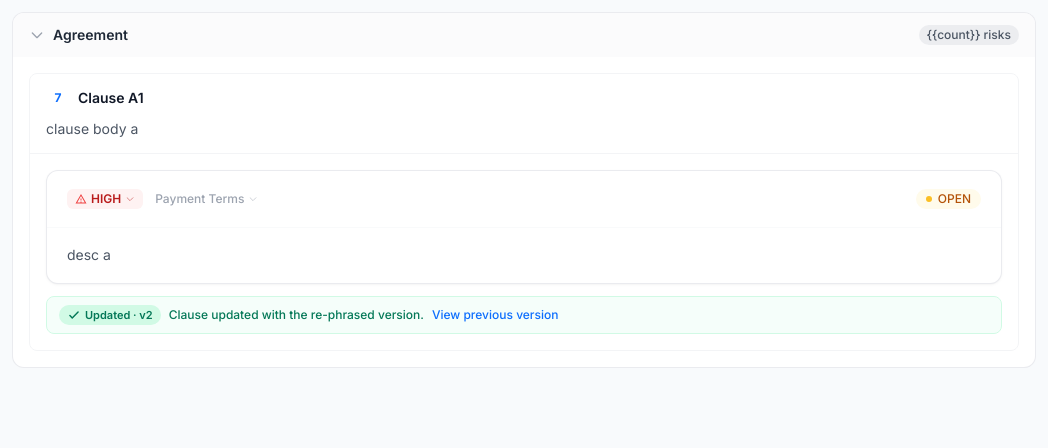
Test: RiskAnalysisTab — recommendation states › TASK 4 — merged state shows "Updated · v{n}" badge + View previous version
The image size is (1048, 448).
Expected: the text "Updated · v2" is shown, x1=59 y1=304 x2=161 y2=325
Expected: the text "the previous clause text" is not shown
Step 1. Click the button "View previous version" → {"x": 495, "y": 315}, box x1=432 y1=307 x2=558 y2=323
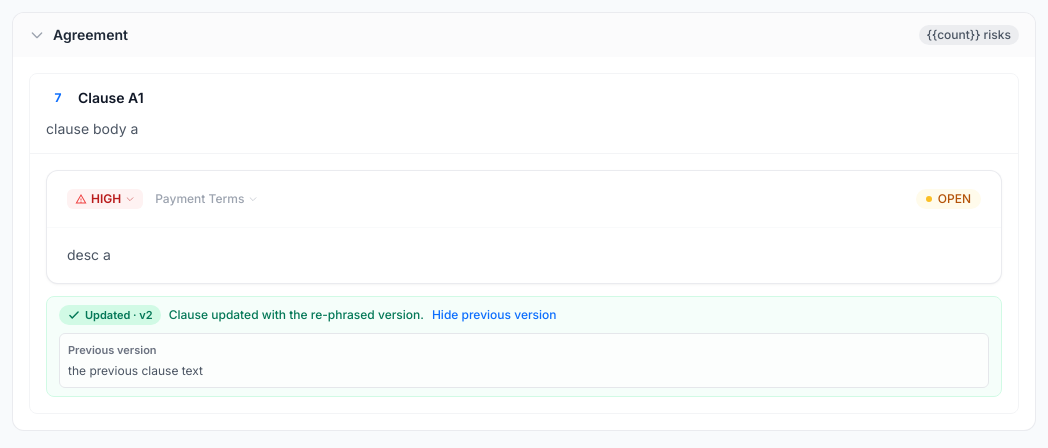
Expected: the text "the previous clause text" is shown, x1=68 y1=362 x2=203 y2=378
